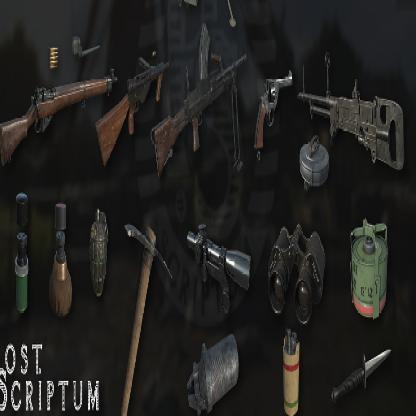Grenade: (282, 325, 300, 416), (301, 133, 331, 187), (90, 210, 107, 301)
Gun: (151, 22, 250, 178), (297, 52, 406, 173), (0, 64, 120, 168), (95, 53, 172, 173)
Knife: (332, 346, 393, 405)
Pistol: (255, 70, 295, 163)
